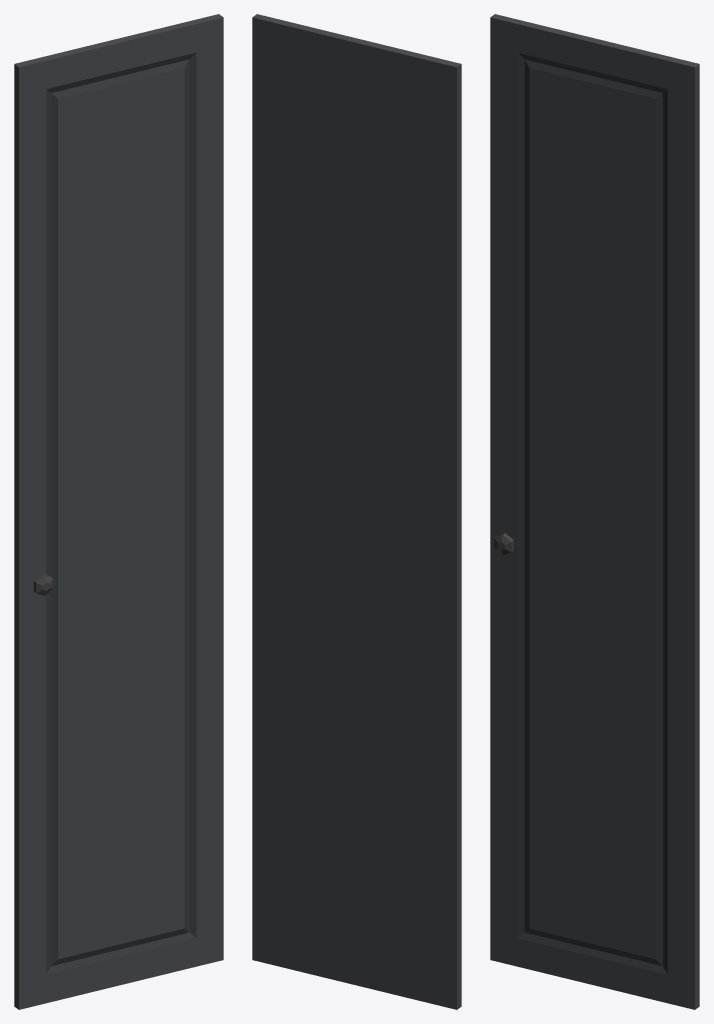
File: Wardrobe4_C2_02.fbx
3 views of the same model, side by side, from view 1: azimuth 30°, elevation 25°; view 2: azimuth 150°, elevation 25°; view 3: azimuth 330°, elevation 25° (orthographic).
Visible parts, largest first — view 1: Wardrobe4_C2_02; view 2: Wardrobe4_C2_02; view 3: Wardrobe4_C2_02.
Boxes of the visible parts, left/top/right/bottom form: Wardrobe4_C2_02: left=14, top=14, right=223, bottom=1009; Wardrobe4_C2_02: left=252, top=14, right=461, bottom=1009; Wardrobe4_C2_02: left=490, top=14, right=699, bottom=1009.
Bounding box in the file's own units: 50 × 220 × 5.33.
